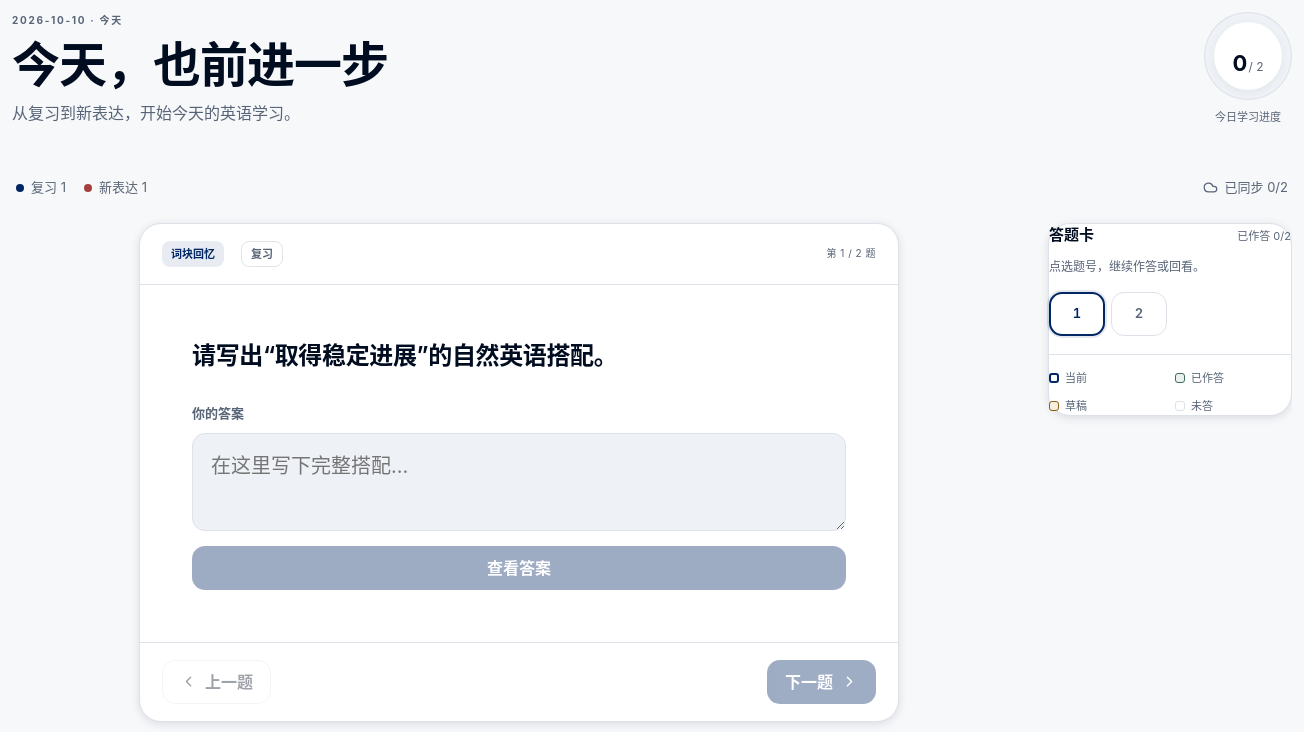
ReviewView › shows a learning card only for the selected new expression
The width and height of the screenshot is (1304, 732).
Expected: the text box labelled "你的答案" is shown, left=192, top=433, right=846, bottom=531
Step 1. Click the button named "第 2 题 · 未答" → (1139, 314), box left=1111, top=292, right=1167, bottom=336
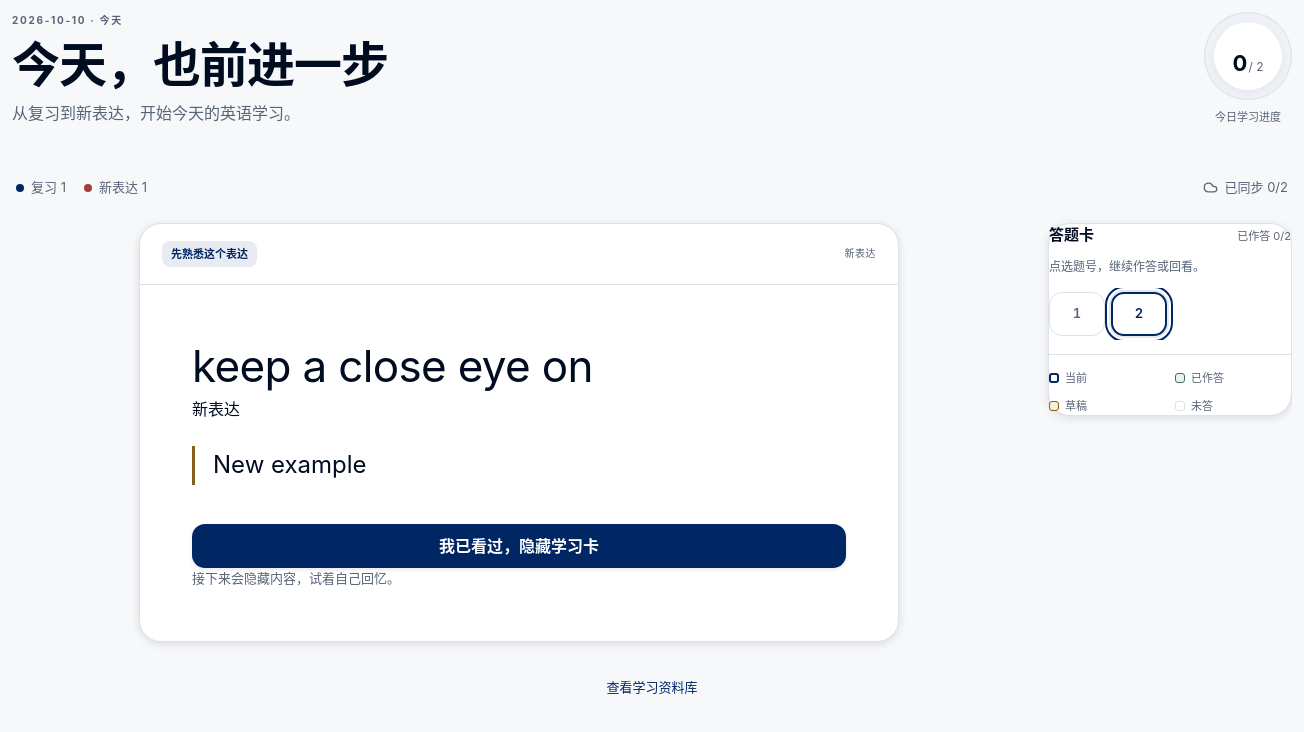
Now the text "New example" is shown, box left=192, top=446, right=846, bottom=485
Step 2. Click the button named "第 1 题 · 未答" → (1077, 314), box left=1049, top=292, right=1105, bottom=336
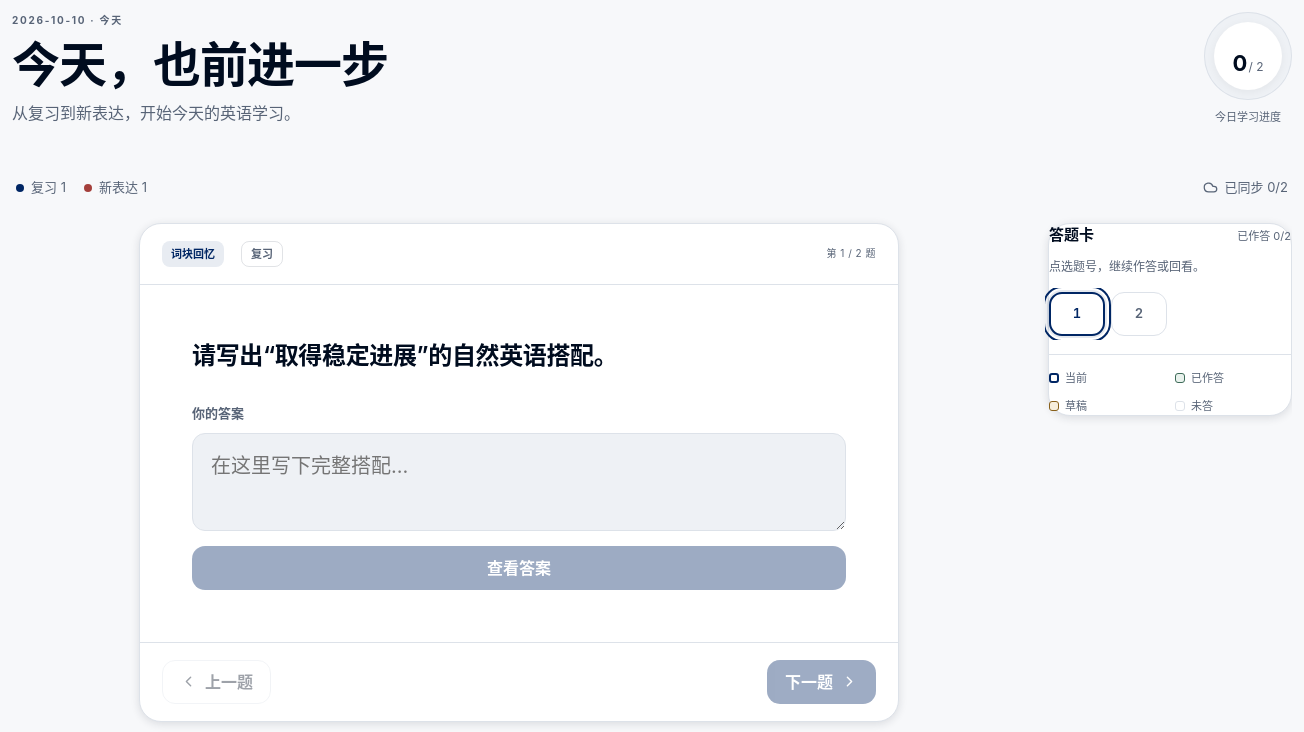
Now the text box labelled "你的答案" is shown, box left=192, top=433, right=846, bottom=531
